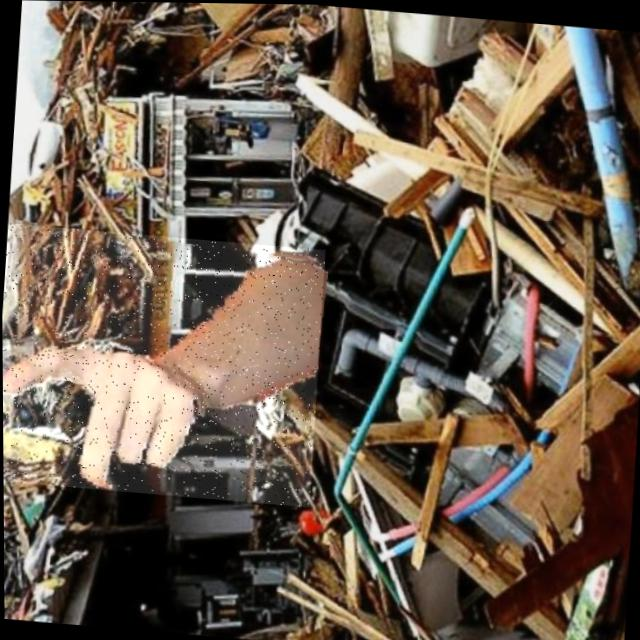Person in Rubble: (1, 221, 326, 505)
